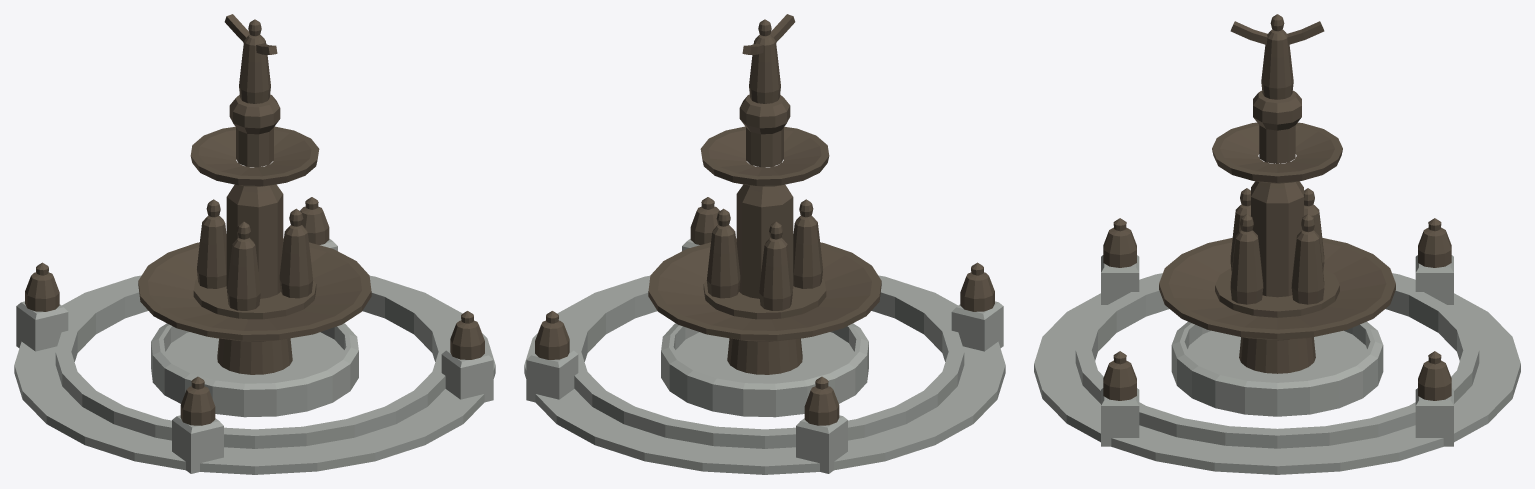
Rendered from cin-tyler-davidson-fountain.glb.
3 renders of one model, left to right at view 1: azimuth 30°, elevation 25°; view 2: azimuth 150°, elevation 25°; view 3: azimuth 270°, elevation 25°, orthographic.
Parts seen in each view (by area): view 1: Tyler Davidson Fountain; view 2: Tyler Davidson Fountain; view 3: Tyler Davidson Fountain.
Boxes of the visible parts, box(x1,y1,x2,y2) form: Tyler Davidson Fountain: box(14, 14, 495, 474); Tyler Davidson Fountain: box(524, 14, 1005, 474); Tyler Davidson Fountain: box(1034, 14, 1520, 474).
Size of the model in its own units: 15.2 by 12.34 by 15.2.
